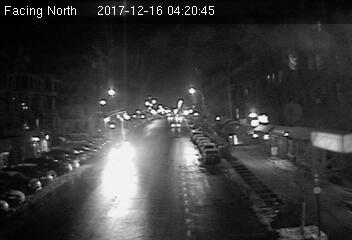car: (202, 147, 222, 163)
